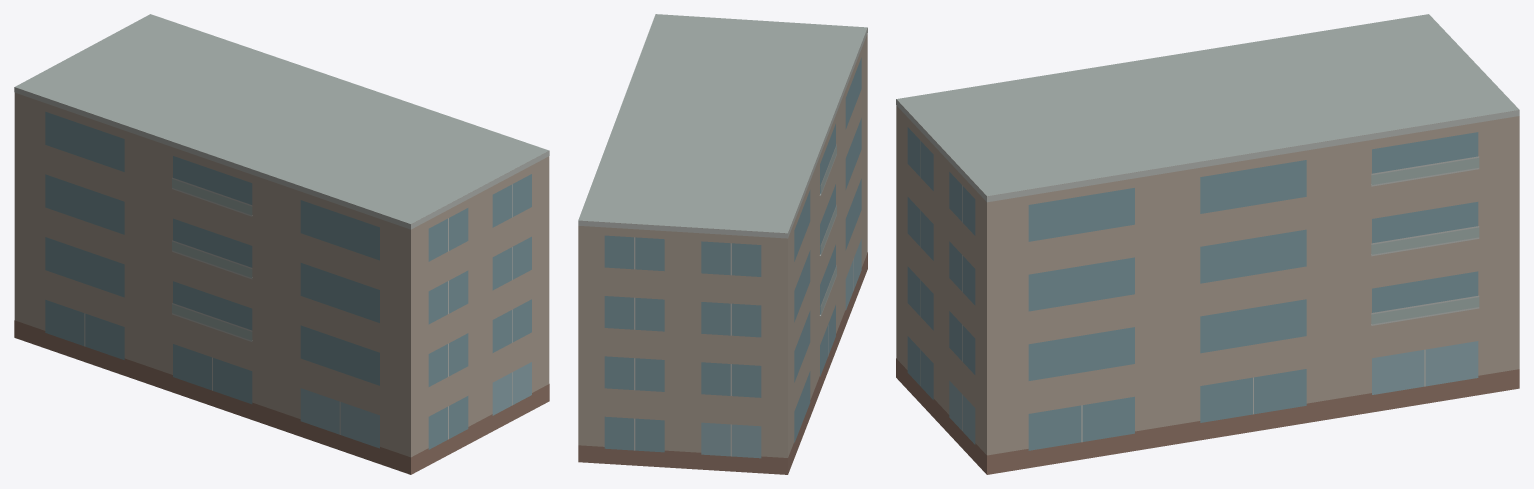
Rendered from survey-upis-32946997.glb.
3 renders of one model, left to right at view 1: azimuth 30°, elevation 25°; view 2: azimuth 150°, elevation 25°; view 3: azimuth 270°, elevation 25°, orthographic. The views are drawn at different scales.
Parts seen in each view (by area): view 1: survey-upis-32946997.tmp; view 2: survey-upis-32946997.tmp; view 3: survey-upis-32946997.tmp.
Part boxes in pixels (<box>): survey-upis-32946997.tmp: <box>14,14,549,474</box>; survey-upis-32946997.tmp: <box>578,14,867,474</box>; survey-upis-32946997.tmp: <box>896,14,1519,474</box>.
Size of the model in its own units: 15.72 by 11.2 by 22.72.
